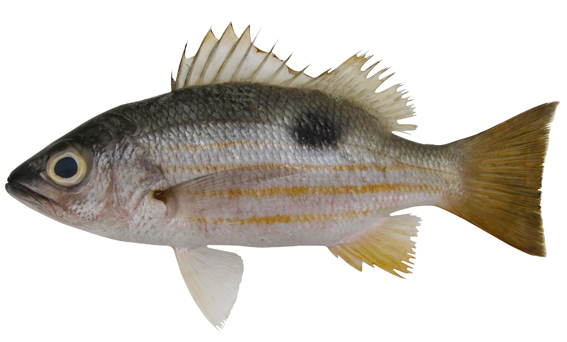fish: (4, 22, 560, 333)
